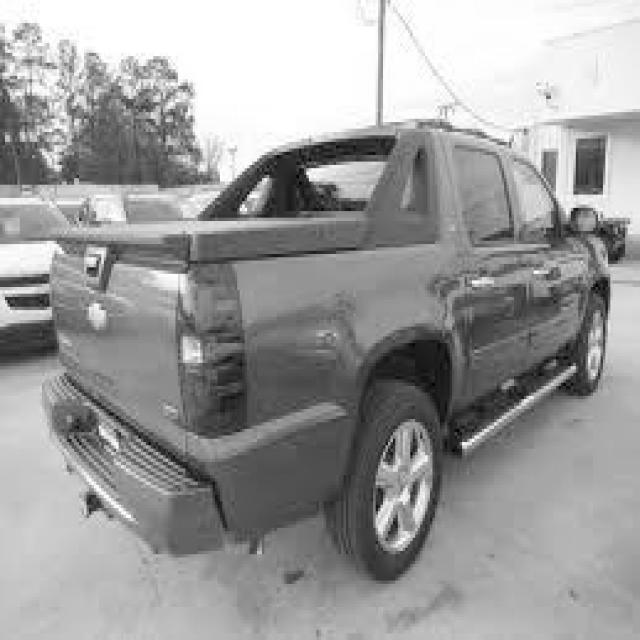car: (39, 115, 613, 580), (0, 195, 72, 356)
